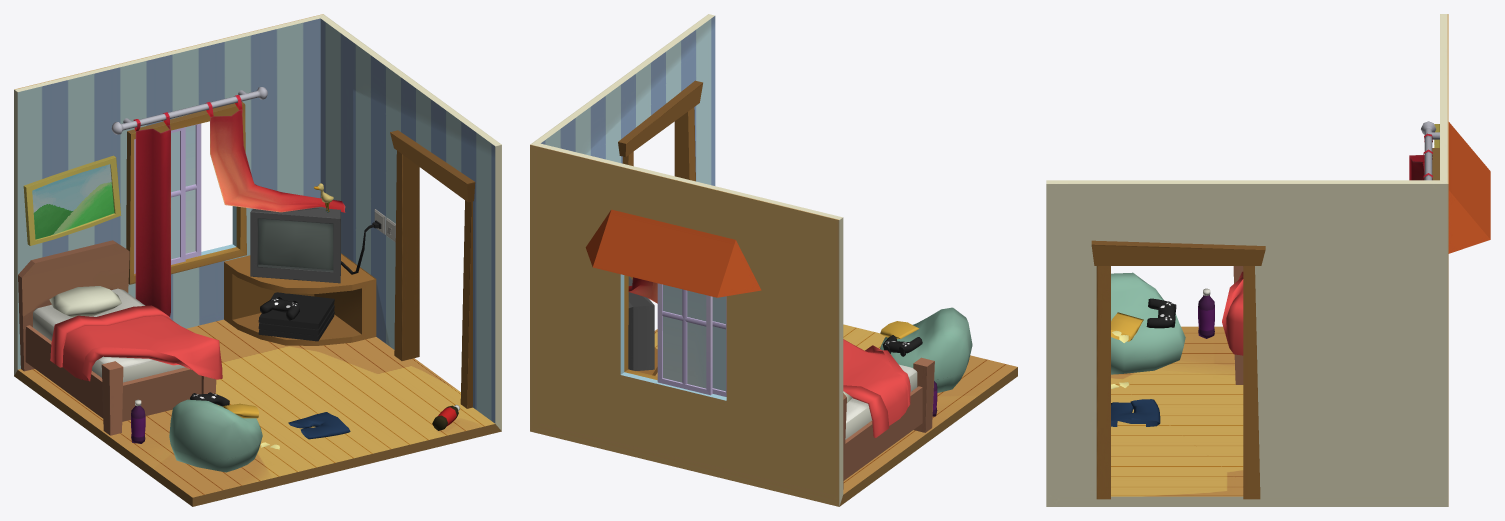
Rendered from bedroom.fbx.
The picture shows the model from 3 angles, left to right: view 1: azimuth 30°, elevation 25°; view 2: azimuth 150°, elevation 25°; view 3: azimuth 270°, elevation 25°; orthographic projection. The views are drawn at different scales.
Visible parts, largest first — view 1: room, bedframe, bedroom_curtains, doorframe, blanket, tv_shelf, tv, photo, beanbag, window_frame, box, matress (+6 smaller); view 2: room, window_roof, window_right, blanket, beanbag, bedframe, doorframe, tv, window_left, matress, window_frame; view 3: room, doorframe, beanbag, window_roof, mess, blanket, chips, pCube34, curtain_pole, bedroom_curtains.
Part boxes in pixels (x1,y1,x2,y2): room: [14, 14, 501, 506]; bedframe: [18, 240, 216, 435]; bedroom_curtains: [133, 95, 345, 316]; doorframe: [390, 130, 475, 408]; blanket: [50, 305, 222, 381]; tv_shelf: [224, 253, 376, 345]; tv: [250, 207, 340, 283]; photo: [23, 155, 121, 245]; beanbag: [169, 399, 262, 472]; window_frame: [126, 102, 246, 284]; box: [258, 292, 334, 341]; matress: [33, 288, 185, 382]; room: [530, 14, 1017, 506]; window_roof: [585, 209, 761, 297]; window_right: [657, 283, 712, 395]; blanket: [843, 339, 910, 437]; beanbag: [880, 307, 972, 392]; bedframe: [843, 357, 934, 489]; doorframe: [618, 80, 702, 279]; tv: [628, 276, 654, 370]; window_left: [712, 296, 726, 396]; matress: [845, 364, 917, 439]; window_frame: [624, 275, 657, 380]; room: [1046, 14, 1448, 506]; doorframe: [1091, 240, 1265, 499]; beanbag: [1111, 272, 1185, 374]; window_roof: [1448, 122, 1490, 253]; mess: [1111, 288, 1214, 426]; blanket: [1222, 271, 1243, 355]; chips: [1111, 312, 1143, 388]; pCube34: [1146, 298, 1176, 328]; curtain_pole: [1421, 121, 1439, 180]; bedroom_curtains: [1409, 133, 1432, 180].
Size of the model in its own units: 144 by 124 by 155.
